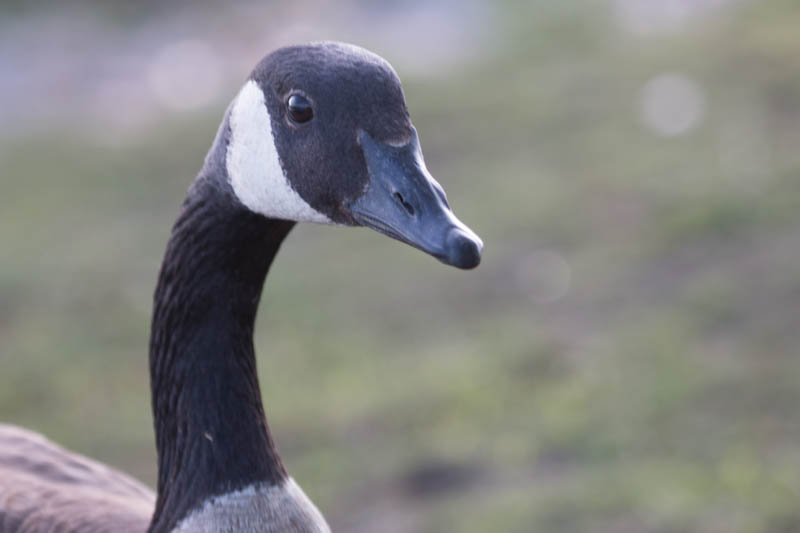goose-head: (202, 40, 484, 270)
